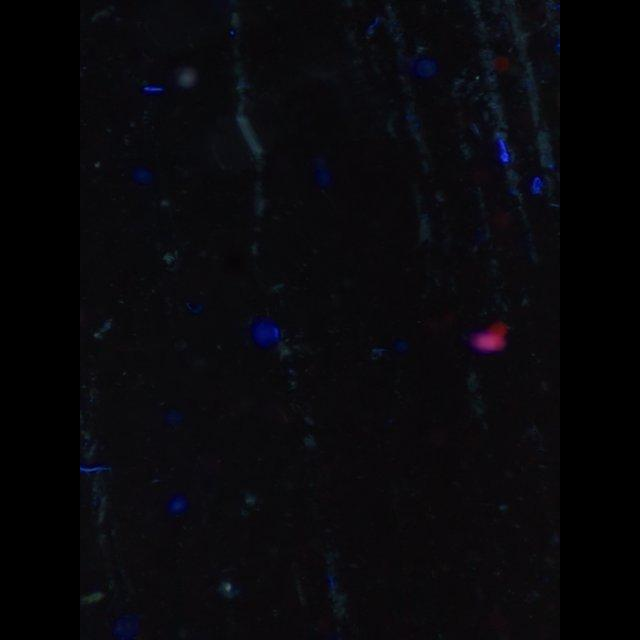microbeads: (180, 70, 197, 92)
